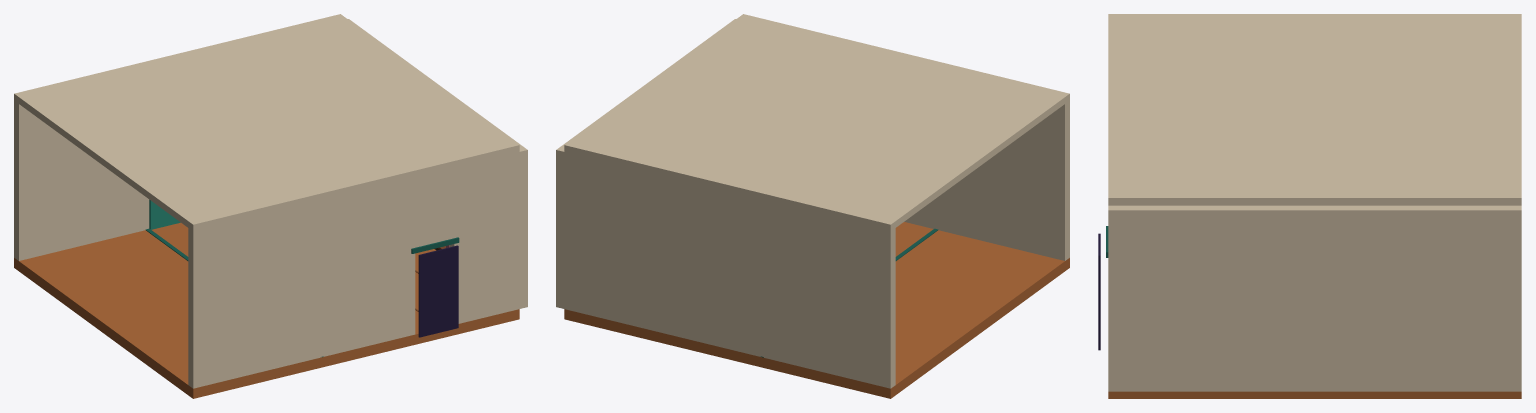
File: lantern_galley_room.gltf
3 renders of one model, left to right at view 1: azimuth 30°, elevation 25°; view 2: azimuth 150°, elevation 25°; view 3: azimuth 270°, elevation 25°, orthographic. The views are drawn at different scales.
Parts seen in each view (by area): view 1: ceiling, right_wall, floor, left_wall, right_wall.2, doorway, lintel, back_wall, left_dado; view 2: ceiling, left_wall, floor, right_wall, back_wall; view 3: ceiling, back_wall, floor.
Boxes of the visible parts, x1,y1,x2,y2 form: ceiling: (14,14,519,231); right_wall: (188,177,415,388); floor: (14,222,519,398); left_wall: (14,100,149,260); right_wall.2: (449,152,519,323); doorway: (418,245,458,337); lintel: (415,168,454,247); back_wall: (348,19,527,308); left_dado: (149,199,180,229); ceiling: (564,14,1069,231); left_wall: (564,152,895,388); floor: (564,222,1069,398); right_wall: (904,100,1069,260); back_wall: (556,19,735,308); ceiling: (1108,14,1521,205); back_wall: (1108,205,1521,391); floor: (1108,391,1521,398).
Size of the model in its own units: 10.25 by 5.1 by 9.72.
